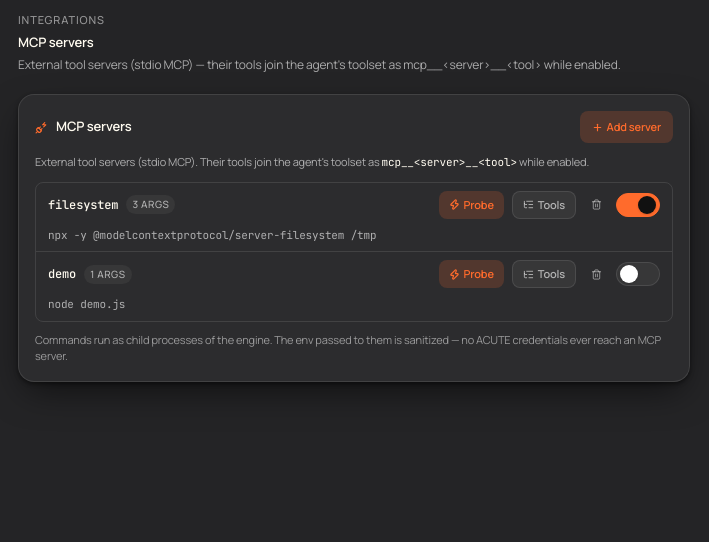
Scenario: McpTab (ROUND-61 R61-2-a) › expands the tools panel → listMcpTools(id) rows render
Expected: the text "filesystem" is shown, [48, 196, 118, 214]
Click the button with aria-label "Show tools for server filesystem" at x=544, y=205, box [512, 191, 576, 219]
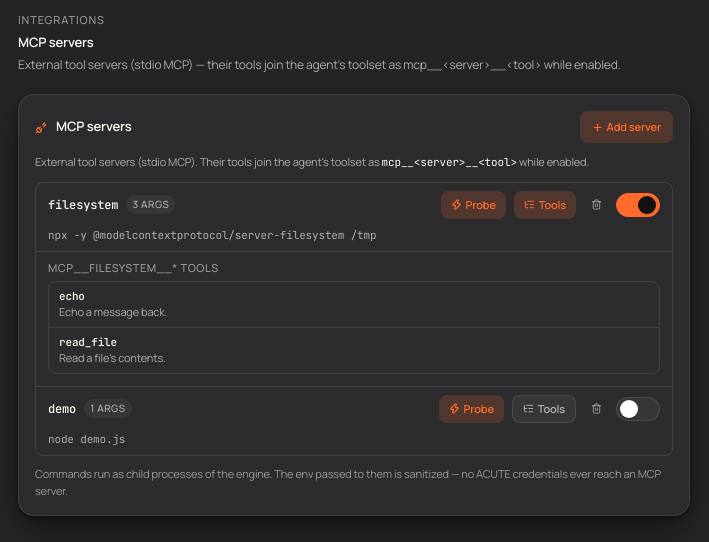
Result: the text "echo" is shown at [59, 289, 85, 303]
Result: the text "Read a file's contents." is shown at [59, 350, 166, 365]
Result: the text "Echo a message back." is shown at [59, 304, 167, 319]
